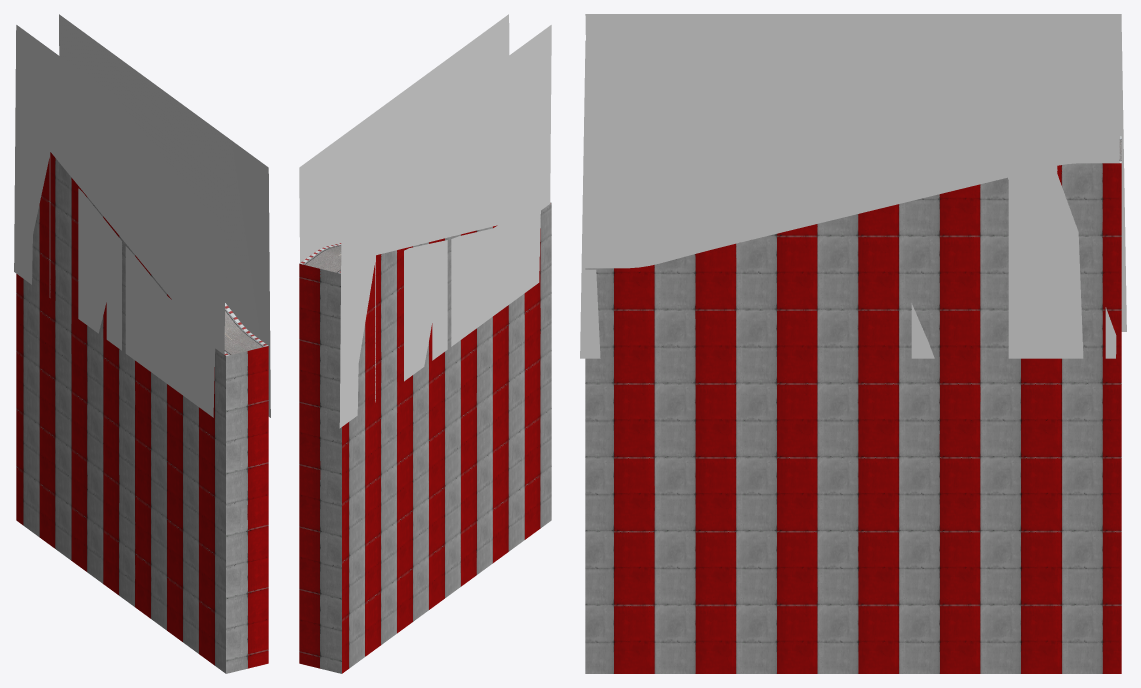
Rendered from track_down.fbx.
3 renders of one model, left to right at view 1: azimuth 30°, elevation 25°; view 2: azimuth 150°, elevation 25°; view 3: azimuth 270°, elevation 25°, orthographic. The views are drawn at different scales.
Parts seen in each view (by area): view 1: track_down, _15d_wall; view 2: track_down, _15d_wall; view 3: track_down, _15d_wall.
Part boxes in pixels (<box>): track_down: <box>16,152,268,673</box>; _15d_wall: <box>14,14,270,417</box>; track_down: <box>299,202,551,673</box>; _15d_wall: <box>299,14,551,428</box>; track_down: <box>585,136,1121,673</box>; _15d_wall: <box>580,14,1126,358</box>.
Size of the model in its own units: 3392 by 37645 by 29461.
